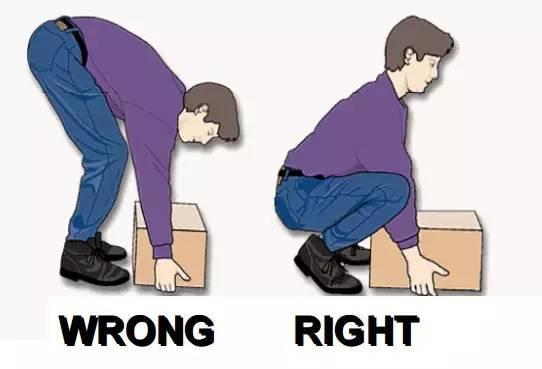bending: (18, 12, 245, 297), (275, 10, 458, 296)
